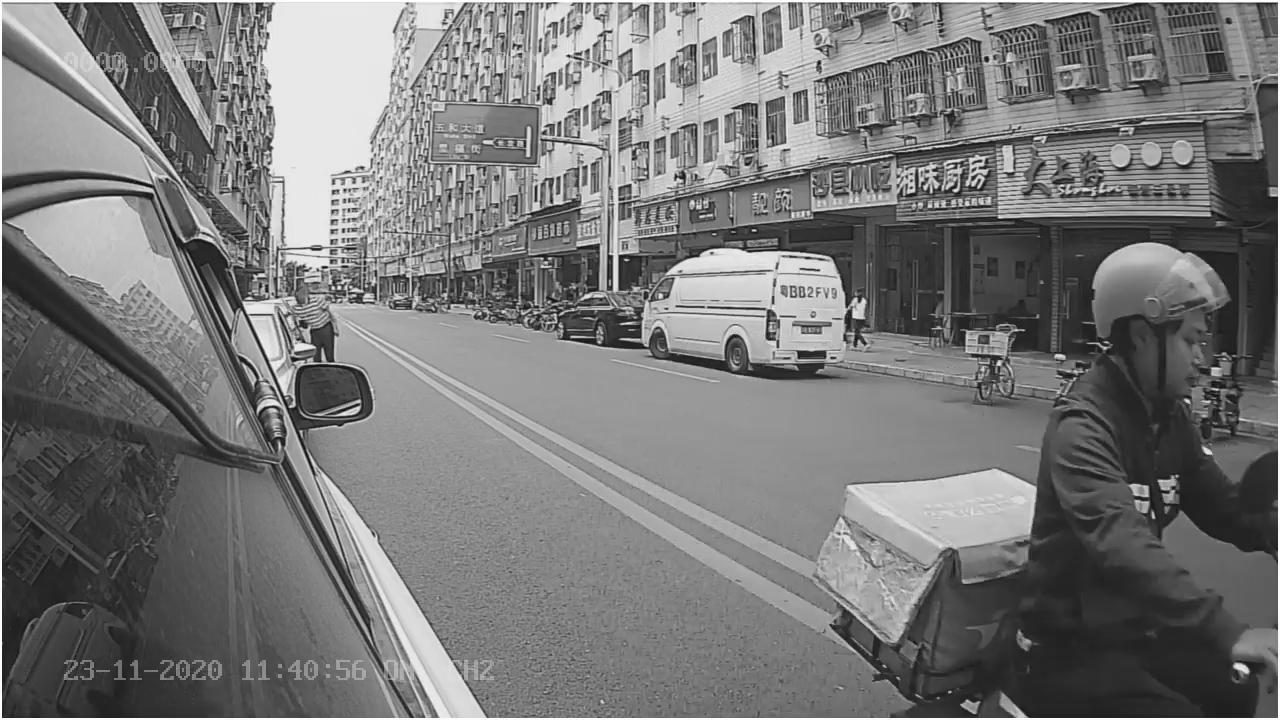person: (1021, 236, 1270, 663)
